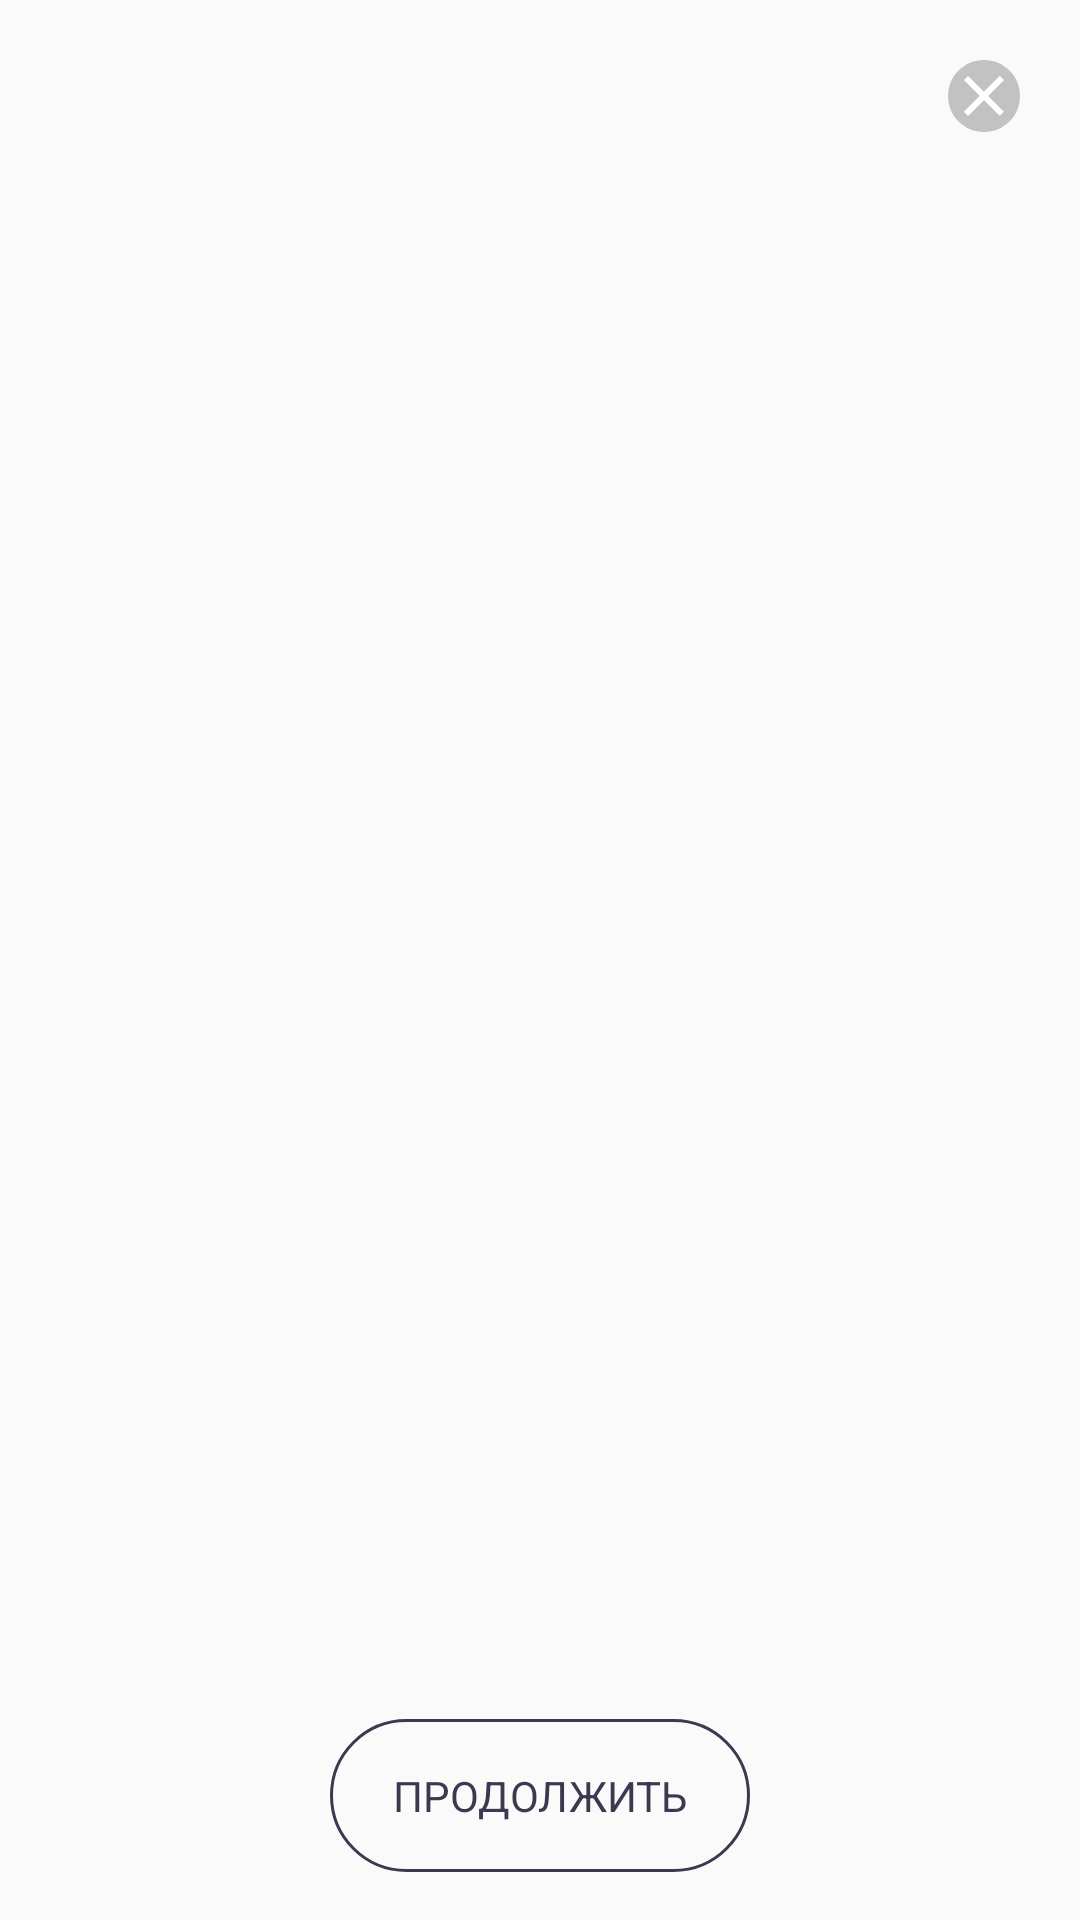

Locate icon controls on the screen. Image size 1080px×1920px, boxes as (left=x1, top=y1, right=x2, bottom=y2).
close: (left=948, top=60, right=1020, bottom=132)
